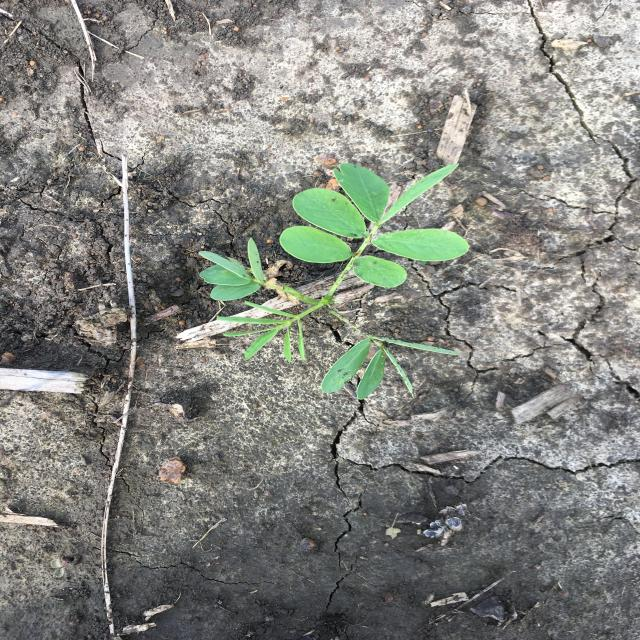Sicklepod: (196, 161, 474, 404)
